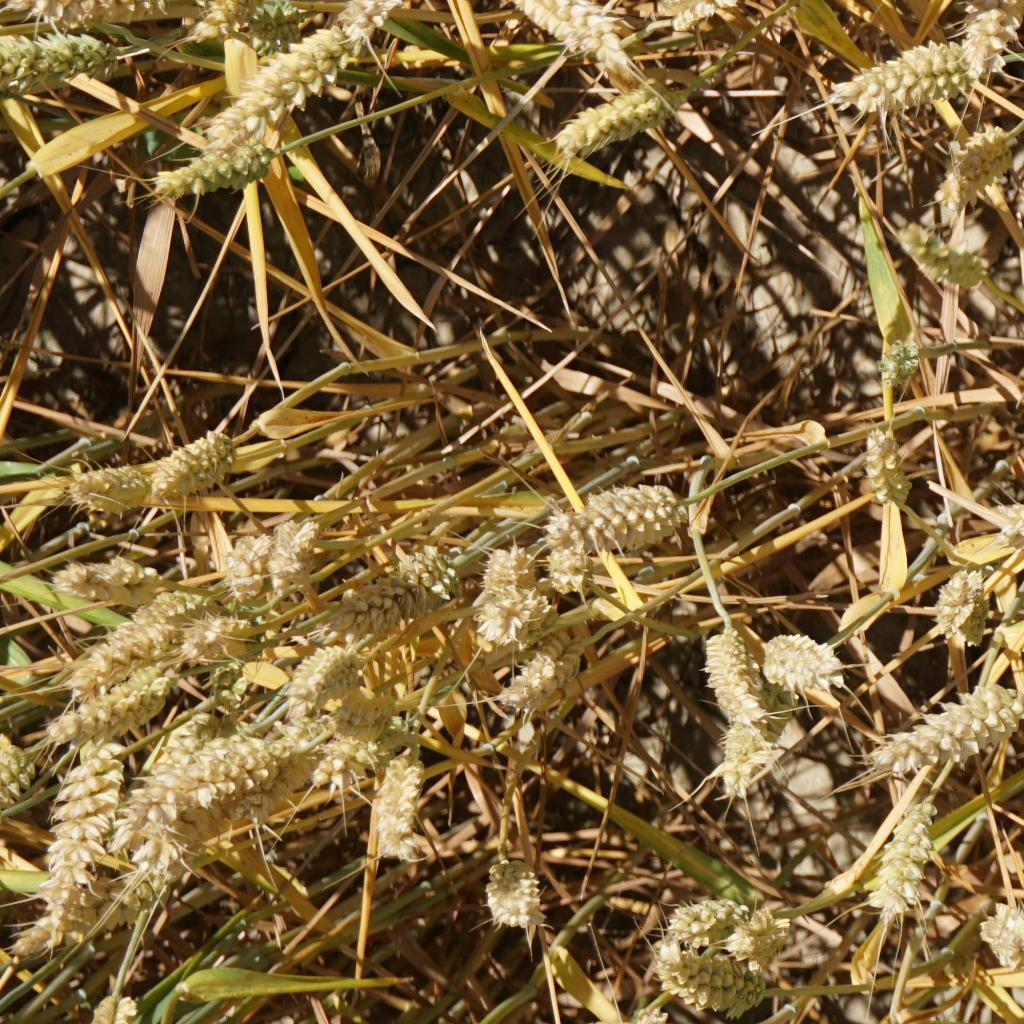0-0: (2, 846, 210, 970), (109, 704, 249, 868), (189, 25, 342, 151), (314, 542, 479, 650), (868, 678, 1024, 773), (292, 704, 431, 799), (42, 736, 111, 925), (649, 889, 795, 961), (641, 938, 773, 1016), (836, 35, 979, 100), (870, 789, 948, 903), (146, 143, 300, 200), (561, 78, 682, 150), (563, 480, 685, 546), (469, 537, 541, 645), (698, 620, 772, 723), (68, 617, 164, 695), (369, 746, 429, 870), (483, 0, 617, 55), (0, 35, 128, 91), (918, 557, 992, 647), (157, 743, 272, 800), (899, 221, 988, 291), (48, 679, 167, 731), (188, 637, 258, 724), (254, 516, 327, 597), (147, 431, 237, 496), (162, 0, 280, 47), (709, 716, 775, 800), (335, 0, 434, 55), (51, 554, 147, 610), (541, 496, 598, 590), (756, 625, 837, 691), (482, 849, 543, 935), (499, 641, 584, 702), (280, 635, 348, 711), (857, 422, 924, 497), (945, 115, 1008, 193), (179, 615, 270, 664), (312, 687, 376, 753), (975, 892, 1024, 975), (217, 531, 272, 601), (961, 0, 1020, 64), (73, 455, 144, 508), (19, 0, 156, 27), (131, 580, 206, 627), (873, 325, 930, 385), (237, 0, 301, 51), (78, 976, 139, 1024), (656, 0, 769, 22), (996, 480, 1024, 546), (945, 0, 1024, 21)
